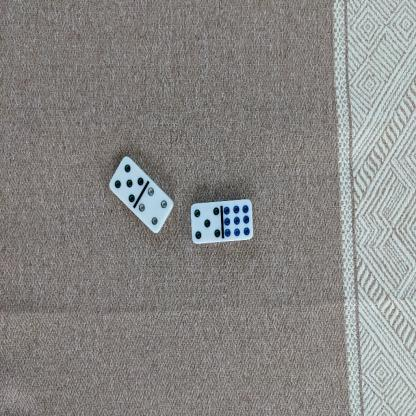pip-4: (138, 186, 173, 233)
pip-5: (109, 156, 144, 202), (189, 201, 222, 245)
pip-9: (222, 200, 253, 242)
